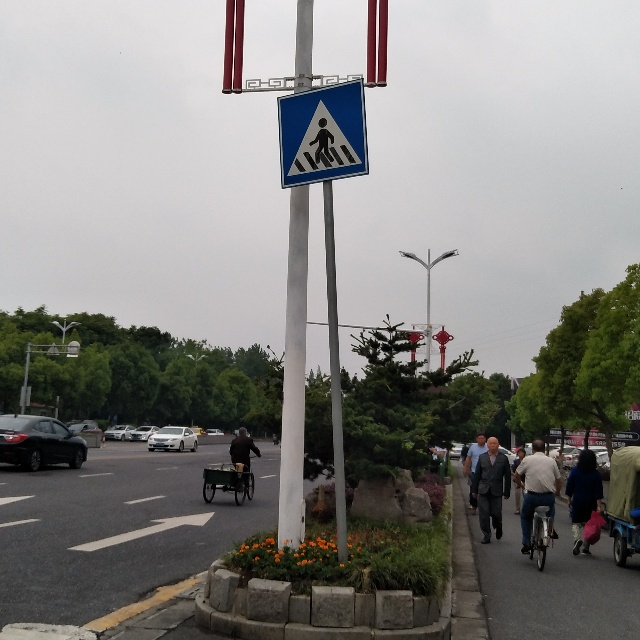crosswalk: (284, 92, 362, 173)
